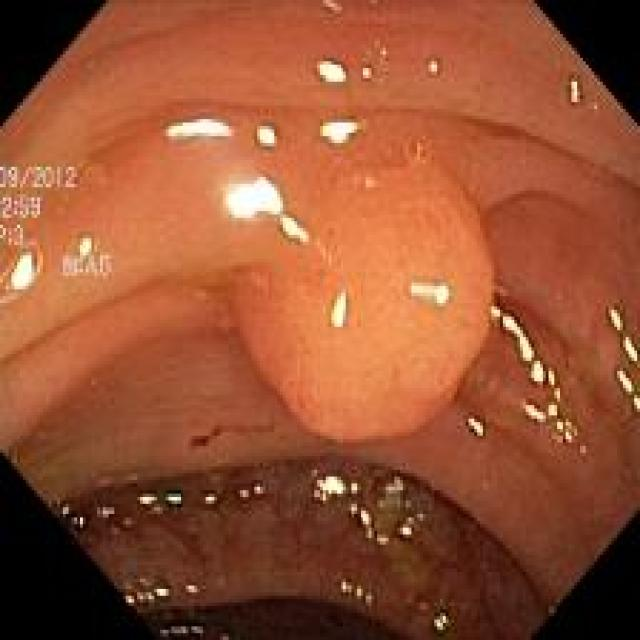Polyps: (236, 143, 492, 442)
